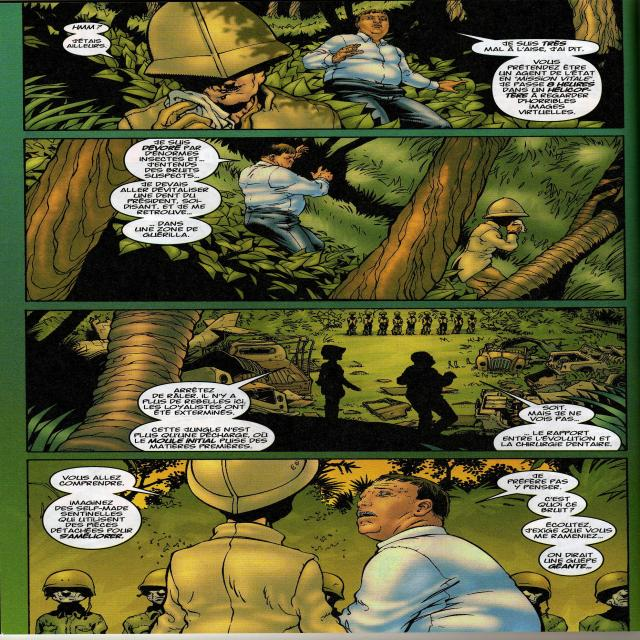comic_panel: (26, 458, 631, 631), (23, 137, 625, 301), (25, 308, 629, 452), (22, 1, 624, 129)
